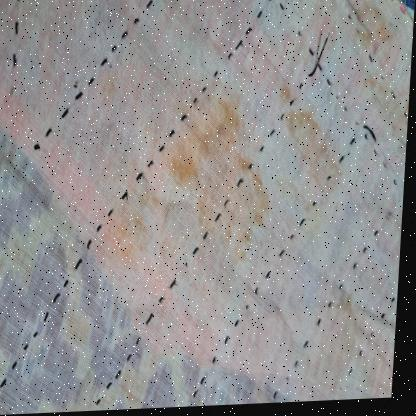spot: (145, 90, 291, 262), (276, 79, 353, 206), (330, 0, 406, 97), (339, 281, 371, 330)
